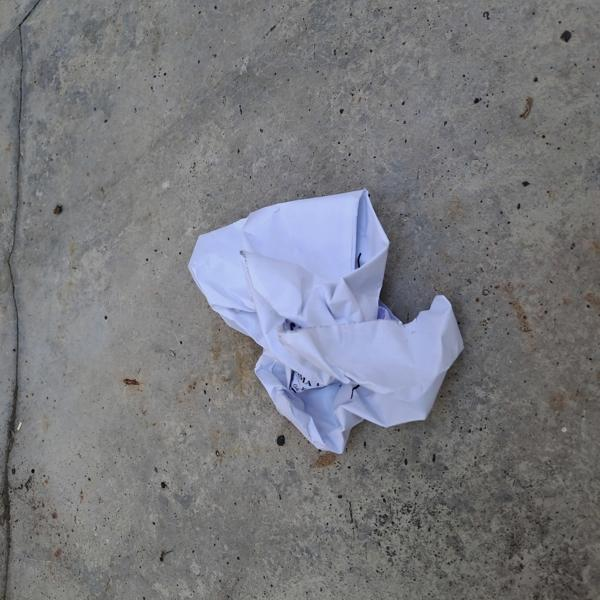Organik: (173, 177, 485, 488)
